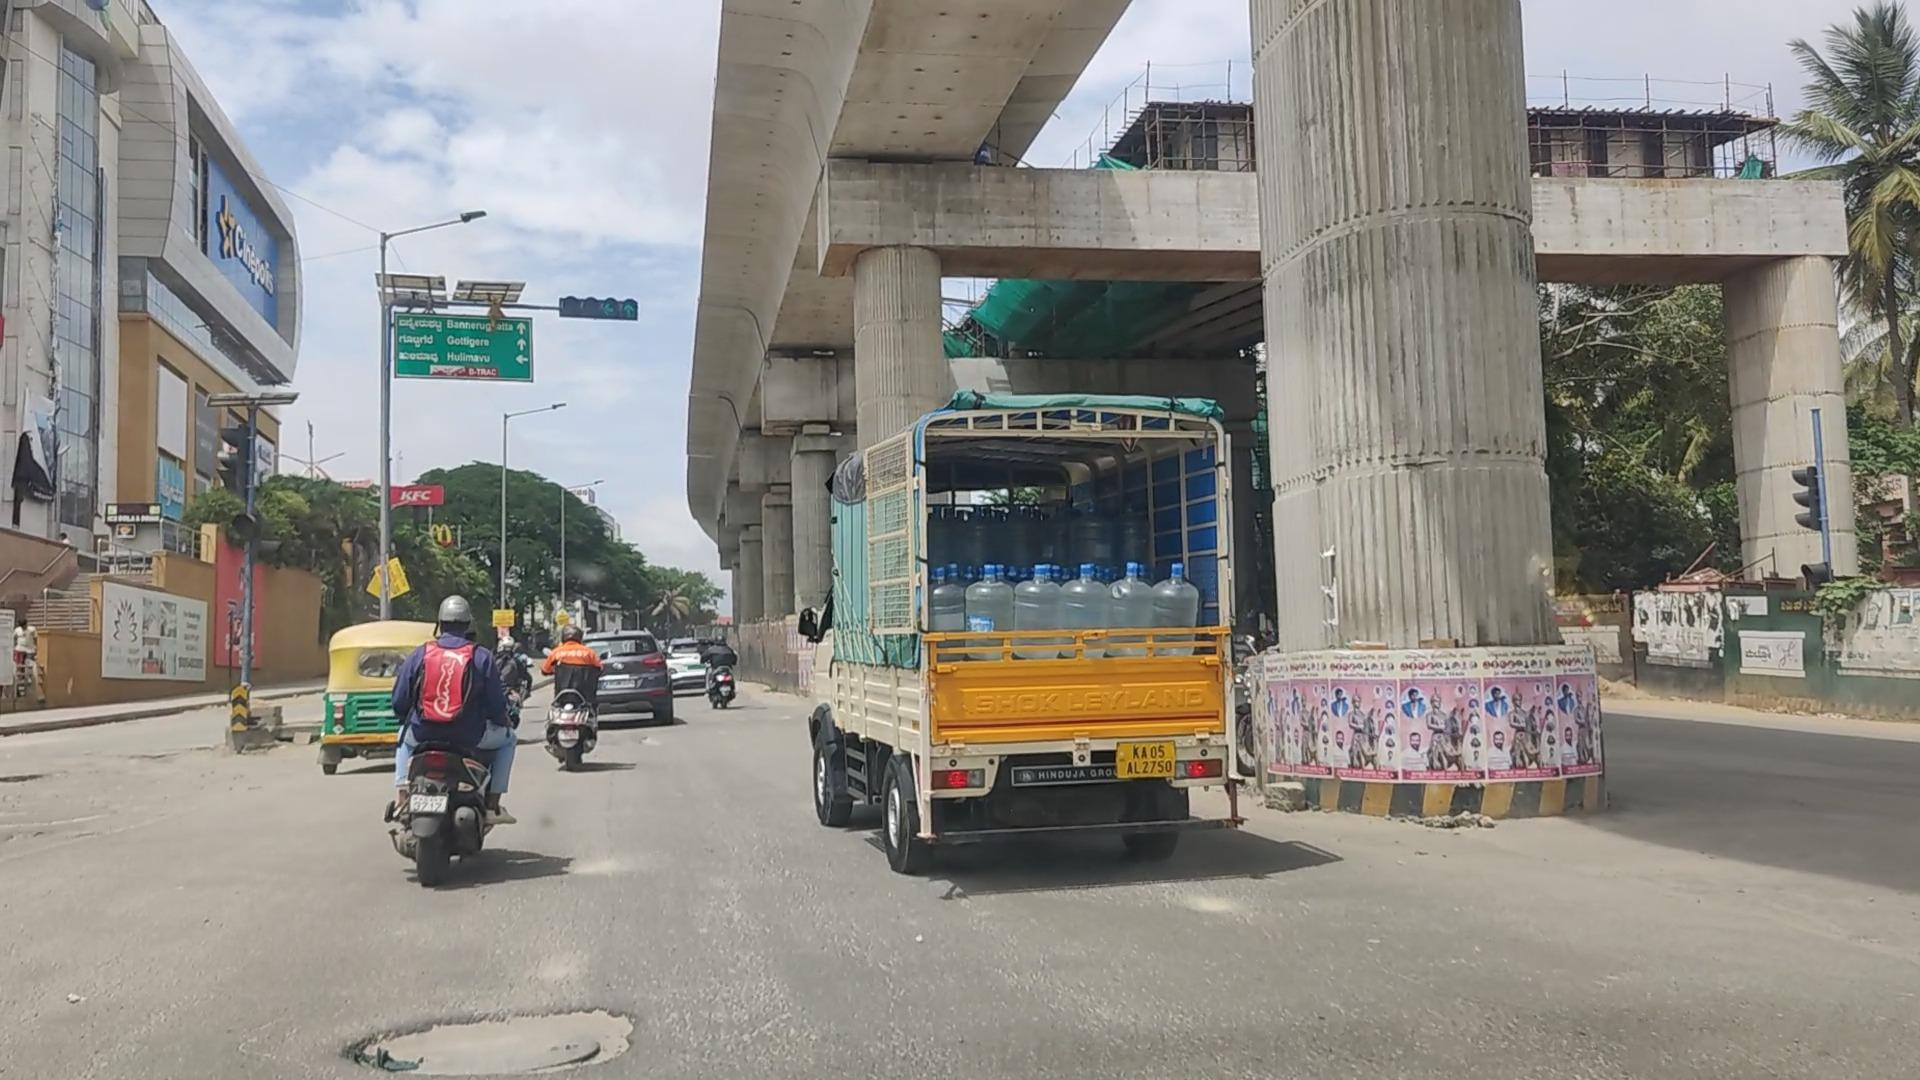HMV: (799, 389, 1230, 891)
LMV: (381, 584, 492, 909), (530, 611, 591, 774)
RoadDamages: (352, 990, 637, 1080)
